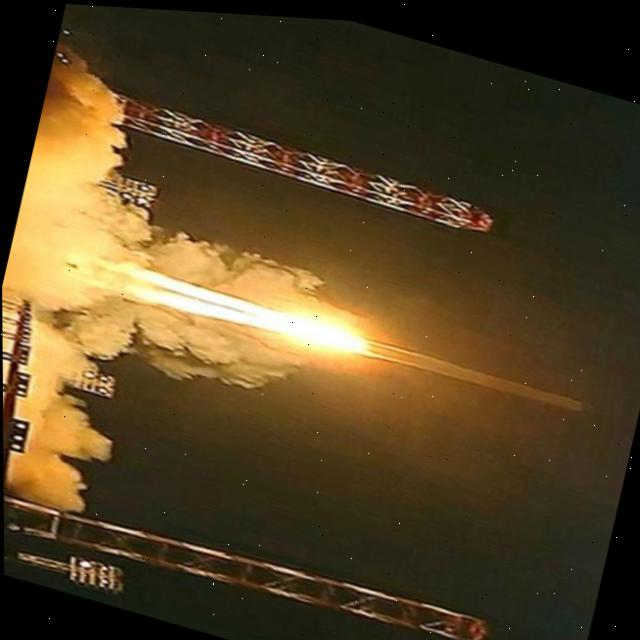missile: (348, 322, 587, 406)
